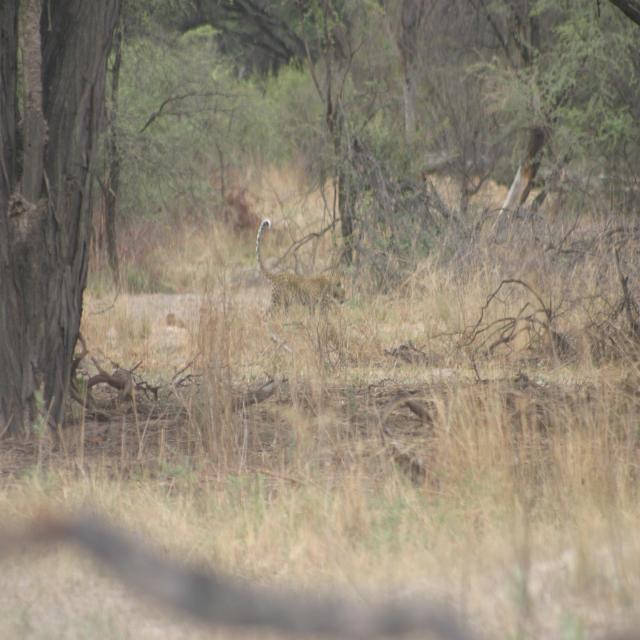Leopard: (253, 212, 350, 330)
